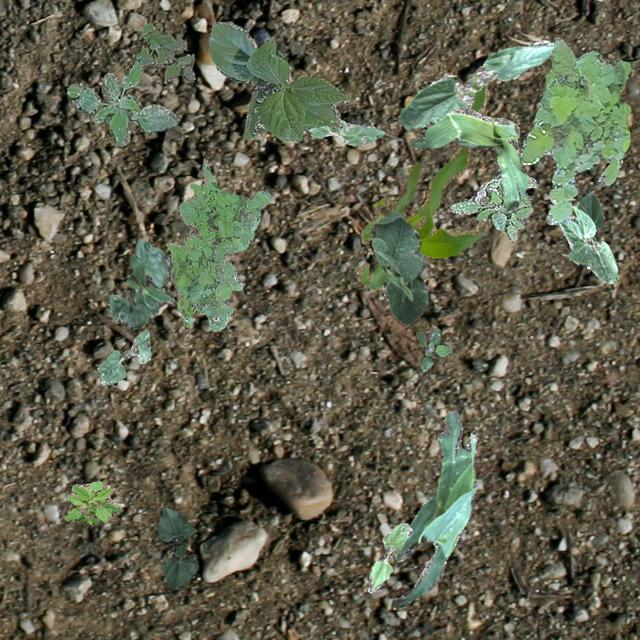crop: (358, 84, 490, 288), (392, 409, 478, 606), (208, 20, 348, 140), (398, 40, 554, 128), (412, 108, 526, 212), (370, 210, 428, 324), (106, 238, 172, 328), (556, 192, 618, 282), (156, 506, 198, 590), (366, 522, 412, 592), (96, 328, 150, 384), (304, 118, 384, 144)
weed: (520, 36, 630, 224), (166, 157, 270, 330), (66, 60, 176, 146), (450, 174, 538, 242), (134, 22, 194, 82), (64, 481, 120, 524), (414, 326, 450, 369)
